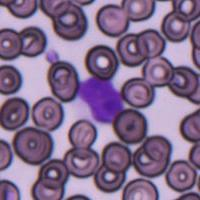M: (74, 76, 125, 124)
